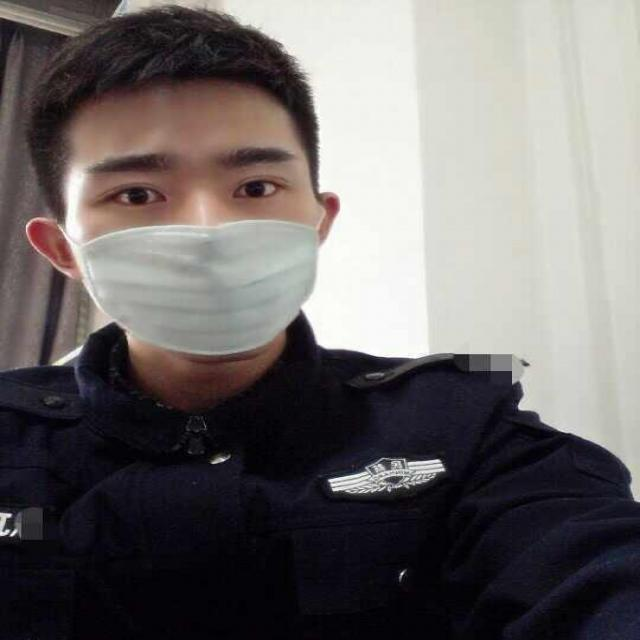mask: (74, 90, 315, 354)
